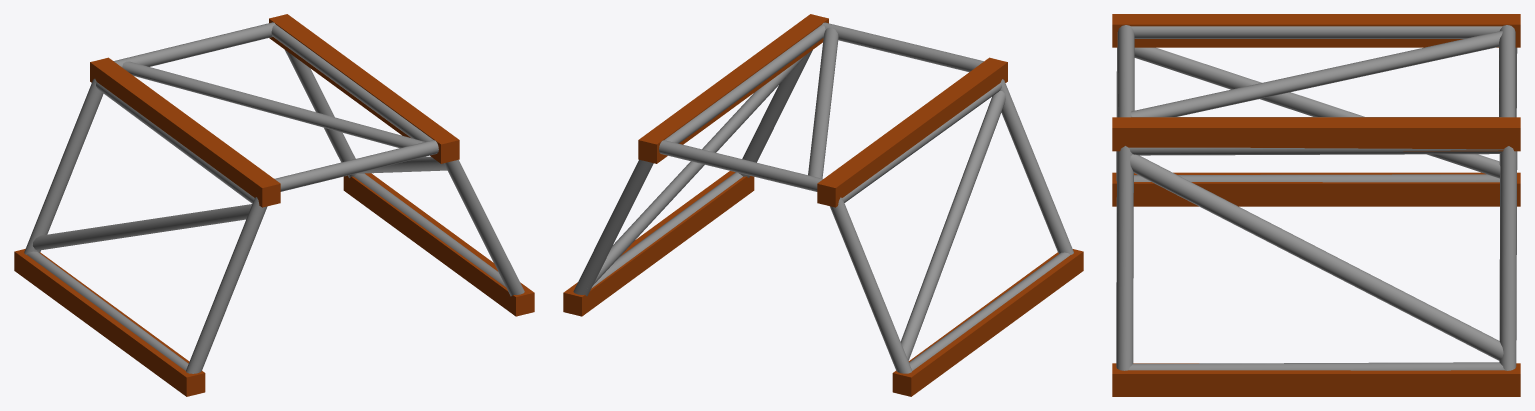
Rendered from WalkwayProtector01.fbx.
3 renders of one model, left to right at view 1: azimuth 30°, elevation 25°; view 2: azimuth 150°, elevation 25°; view 3: azimuth 270°, elevation 25°, orthographic. The views are drawn at different scales.
Visible parts, largest first — view 1: Cube.001; view 2: Cube.001; view 3: Cube.001.
Part boxes in pixels (left/top/right/bottom): Cube.001: left=14, top=14, right=534, bottom=396; Cube.001: left=563, top=14, right=1083, bottom=396; Cube.001: left=1112, top=14, right=1520, bottom=396.
Size of the model in its own units: 896 by 468 by 768.
